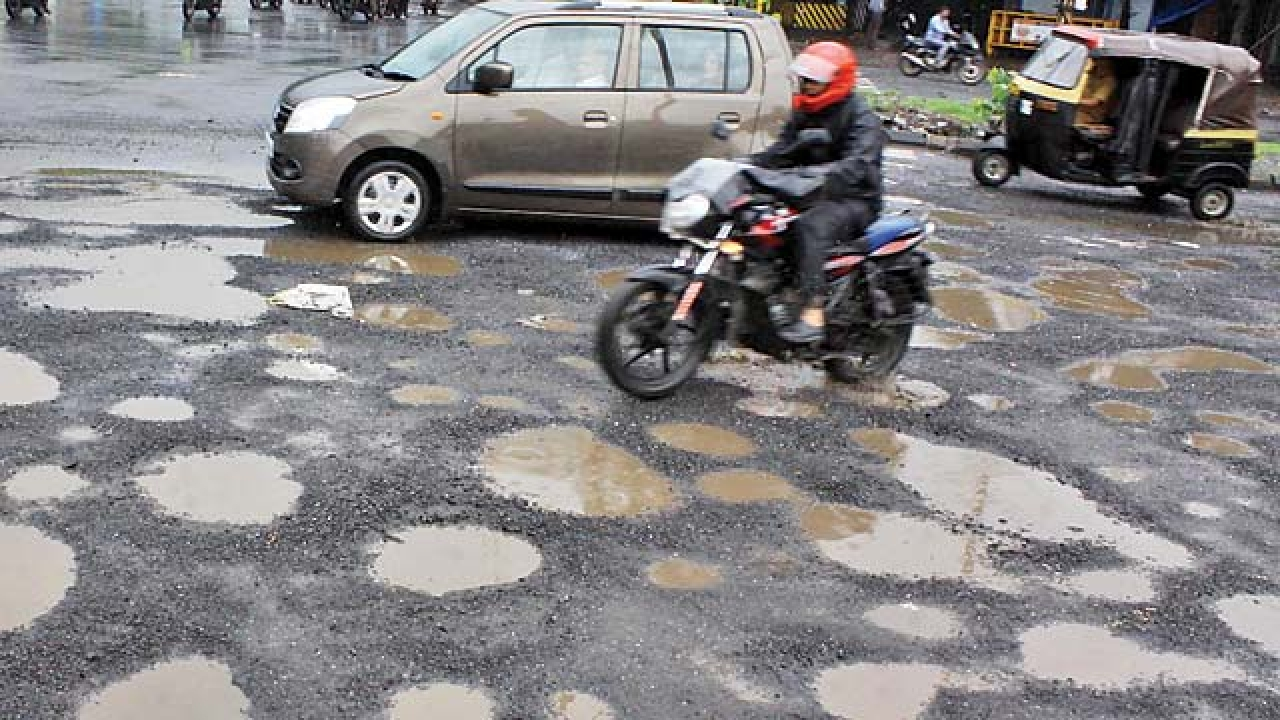pothole: (840, 412, 1127, 575), (427, 402, 680, 546), (128, 417, 345, 554), (322, 492, 551, 616), (1070, 324, 1256, 415), (84, 626, 231, 717), (923, 262, 1073, 340), (358, 655, 507, 717), (520, 675, 649, 717)
